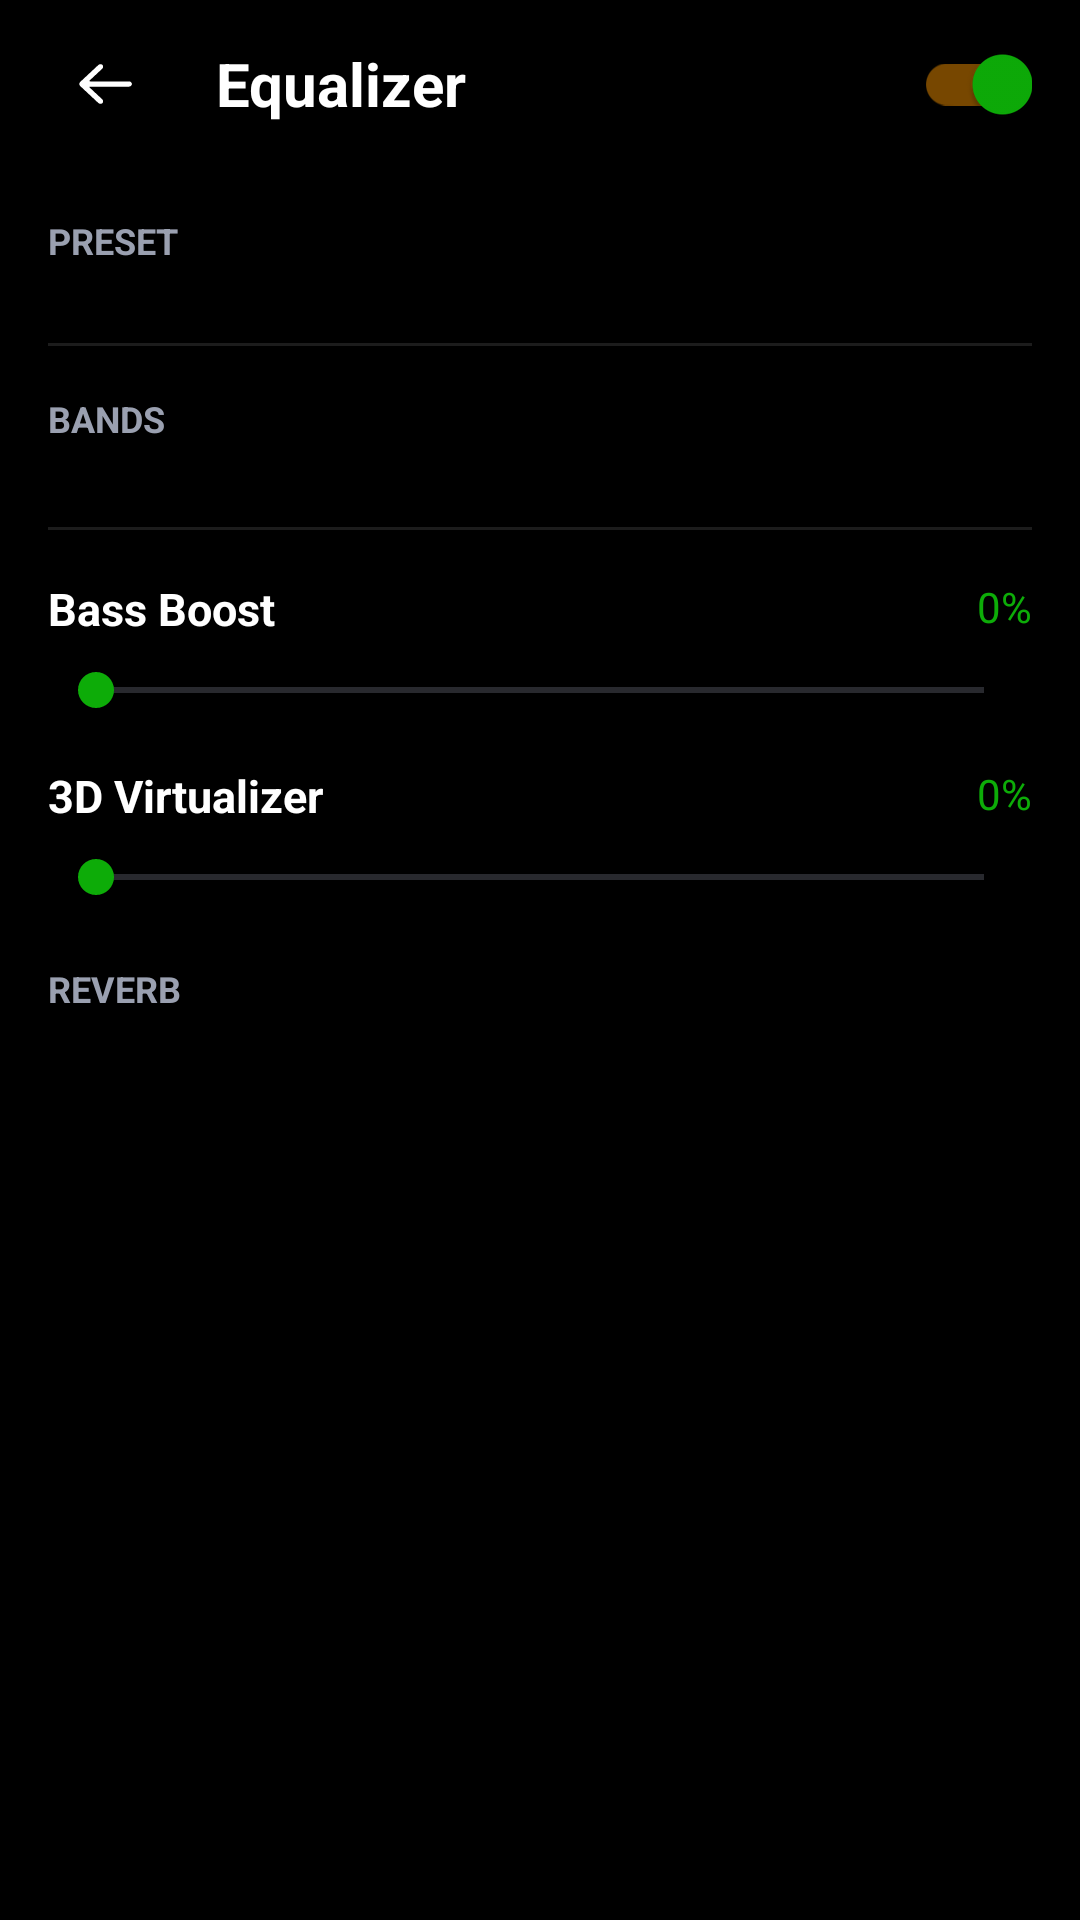

Icon bounding boxes for this 1080px x 1920px phone screenshot, format (x1, y1, x2, y2):
back: (79, 64, 132, 104)
